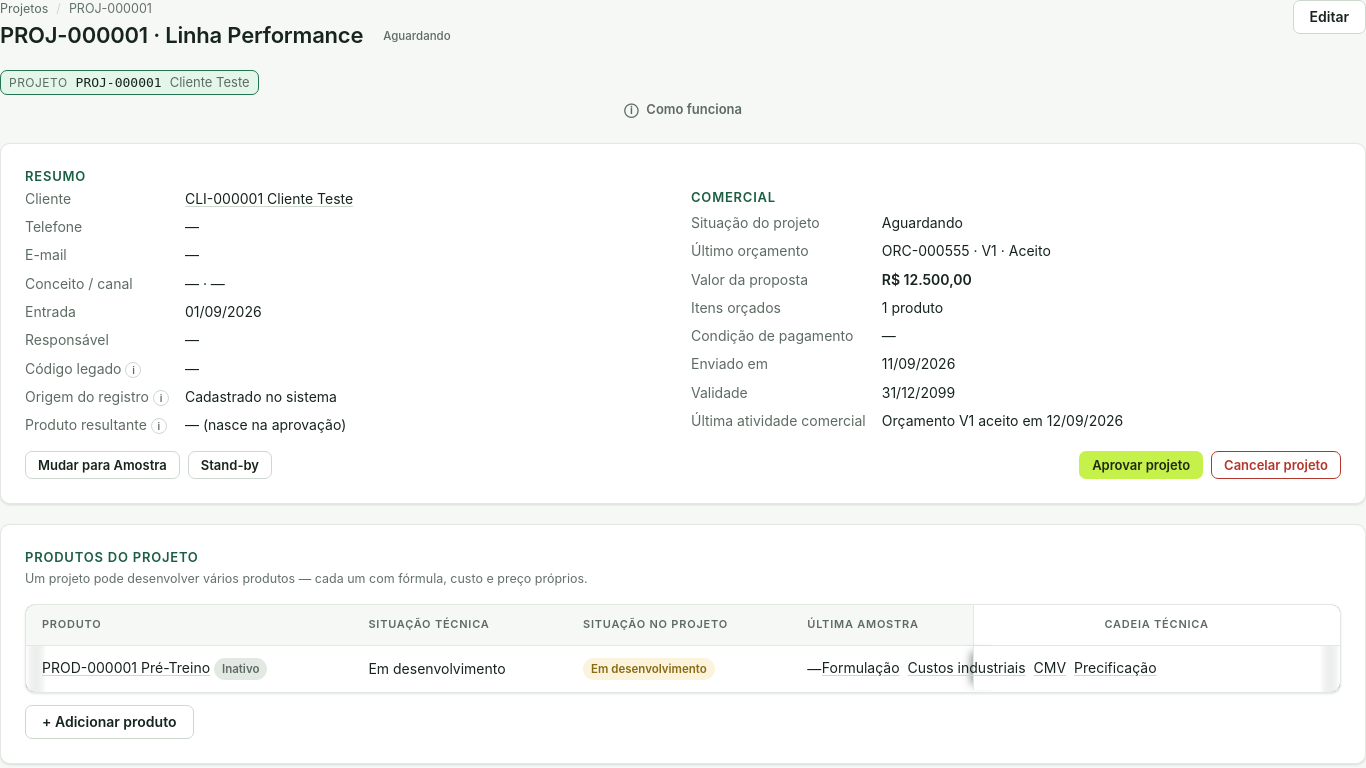
Scenario: Projeto — produto inativo fora da escolha nova › aprovação: o diálogo marca o produto aceito inativo e avisa; a recusa fecha o diálogo e aparece na página
Click the button "Aprovar projeto". click: coordinates (1141, 465)
box: [1079, 451, 1203, 479]
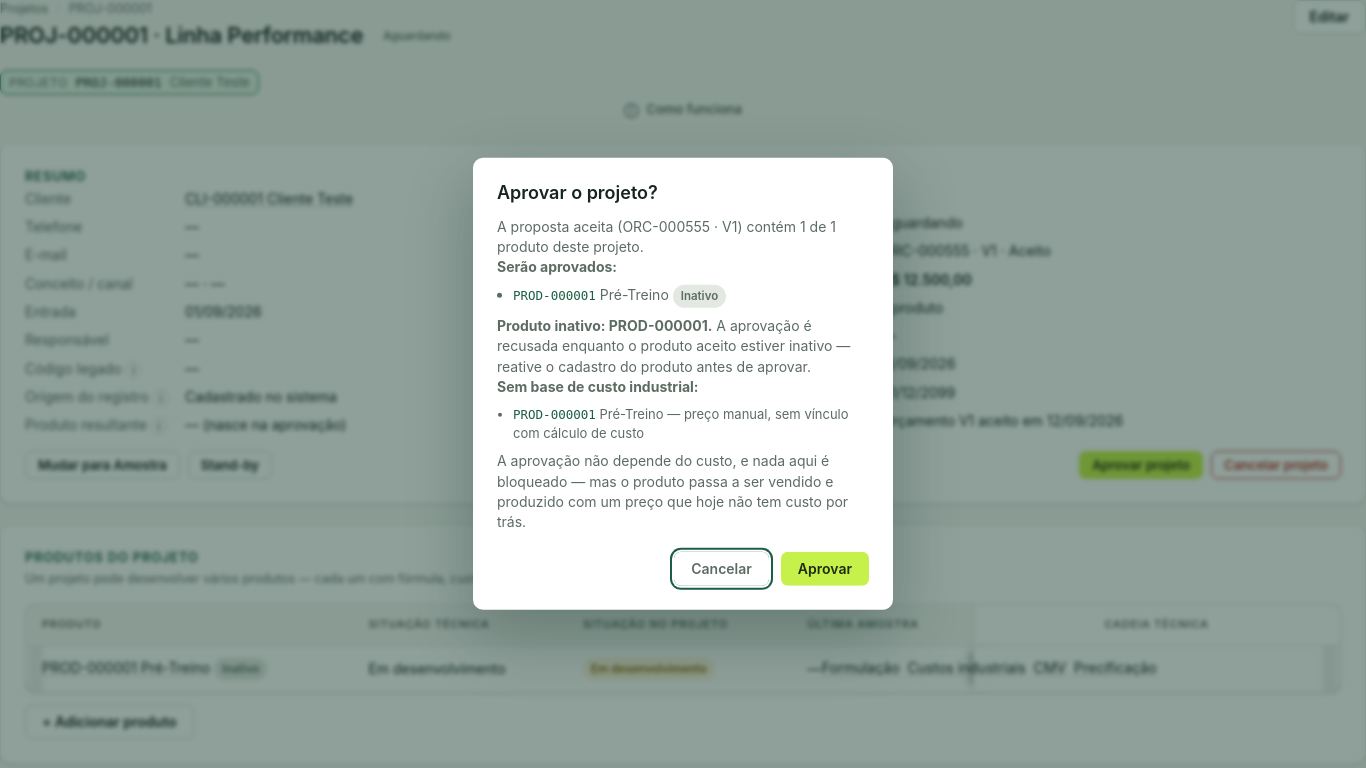
Expected: the dialog shows "A aprovação é recusada enquanto o produto aceito estiver inativo — reative o cadastro do produto antes de aprovar.", [497, 317, 850, 374]
Click the button "Aprovar". click: coordinates (825, 569)
box: [781, 552, 869, 586]
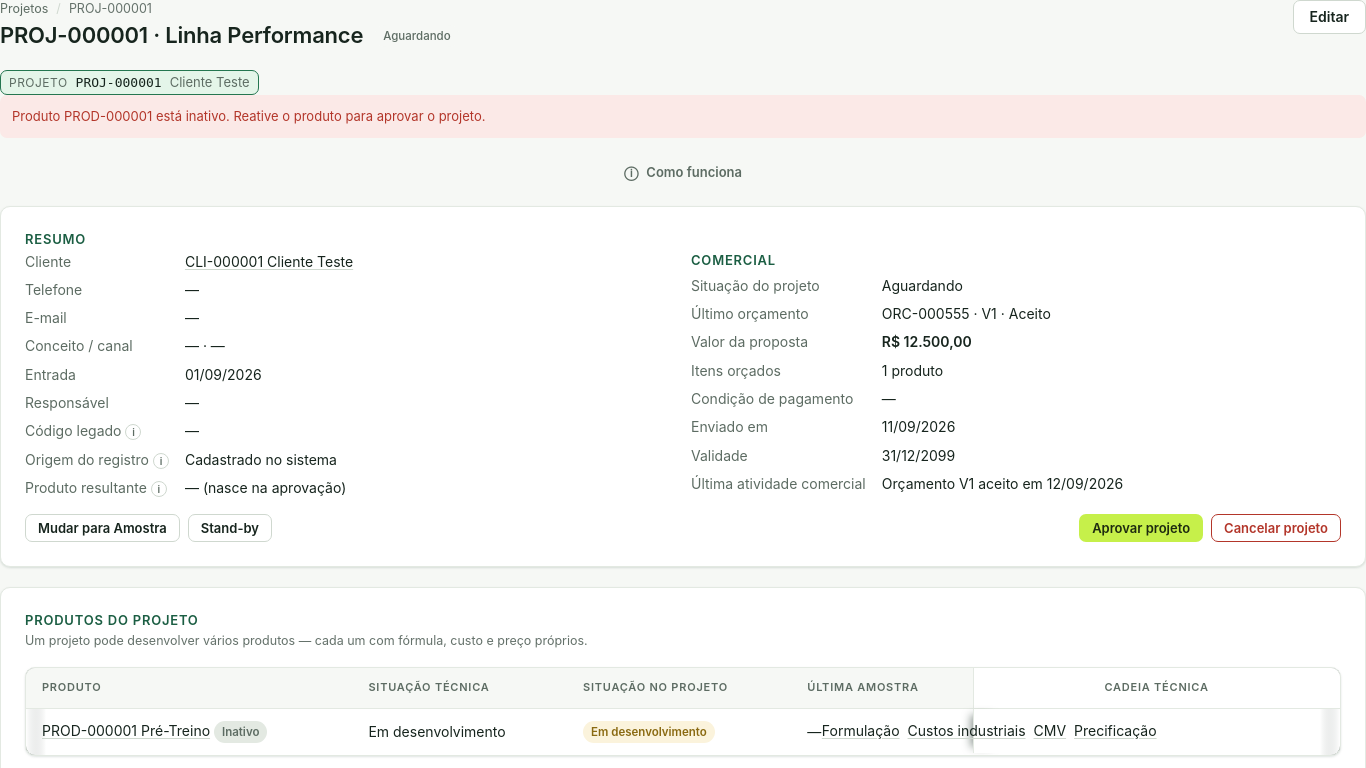
Expected: the dialog is gone
